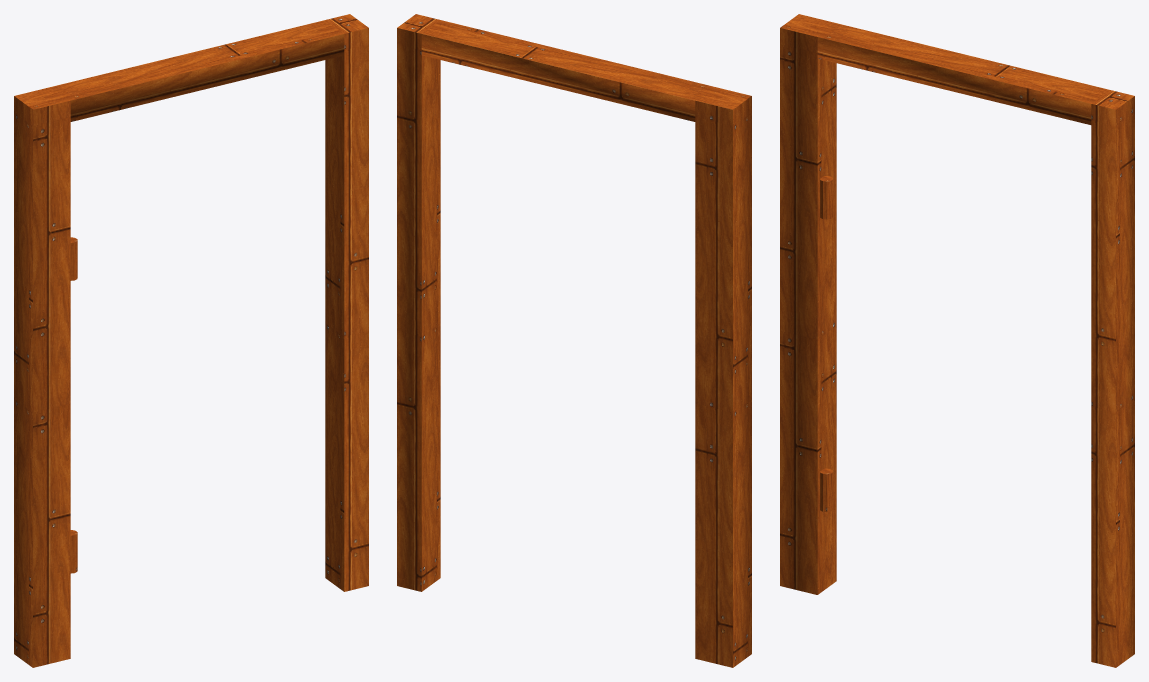
Rendered from Door_Frame_B.fbx.
The picture shows the model from 3 angles, left to right: view 1: azimuth 30°, elevation 25°; view 2: azimuth 150°, elevation 25°; view 3: azimuth 330°, elevation 25°; orthographic projection.
Visible parts, largest first — view 1: Door_Frame_B; view 2: Door_Frame_B; view 3: Door_Frame_B.
Boxes of the visible parts, x1,y1,x2,y2 form: Door_Frame_B: [14, 14, 368, 667]; Door_Frame_B: [397, 14, 751, 667]; Door_Frame_B: [780, 14, 1134, 667].
Bounding box in the file's own units: 1.23 × 1.95 × 0.1198.
